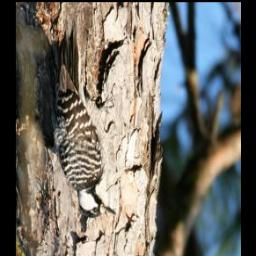Woodpecker: (53, 21, 117, 219)
